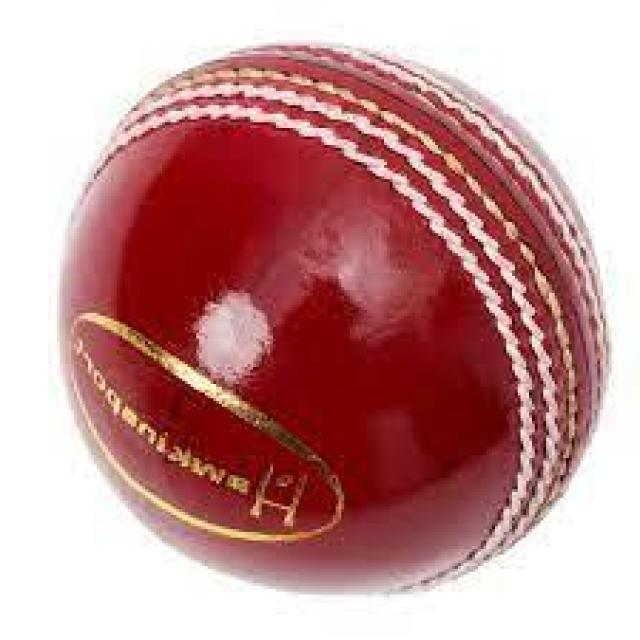ball: (54, 49, 609, 600)
